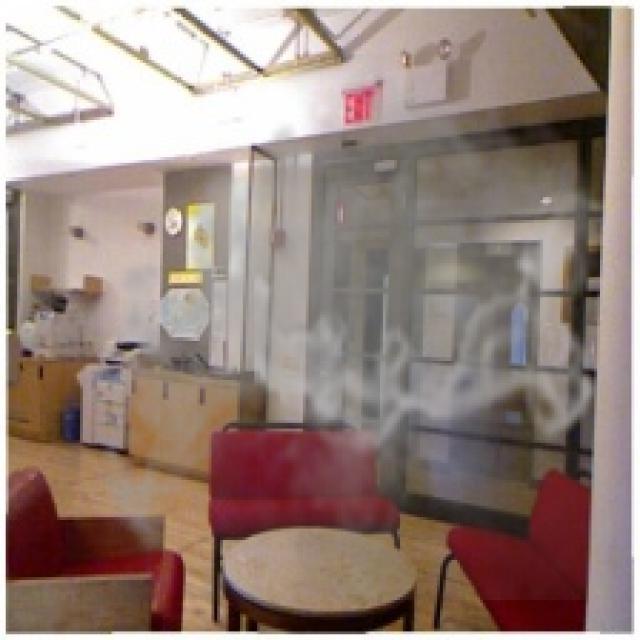smoke: (83, 49, 608, 600)
